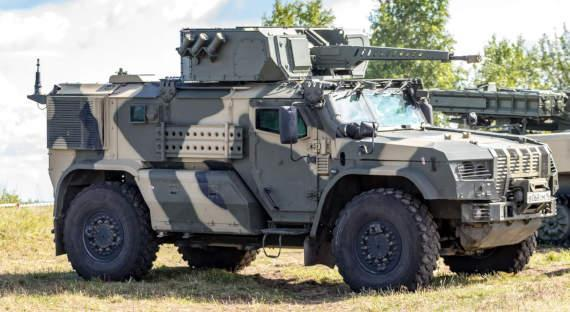armored_car: (31, 7, 560, 291)
